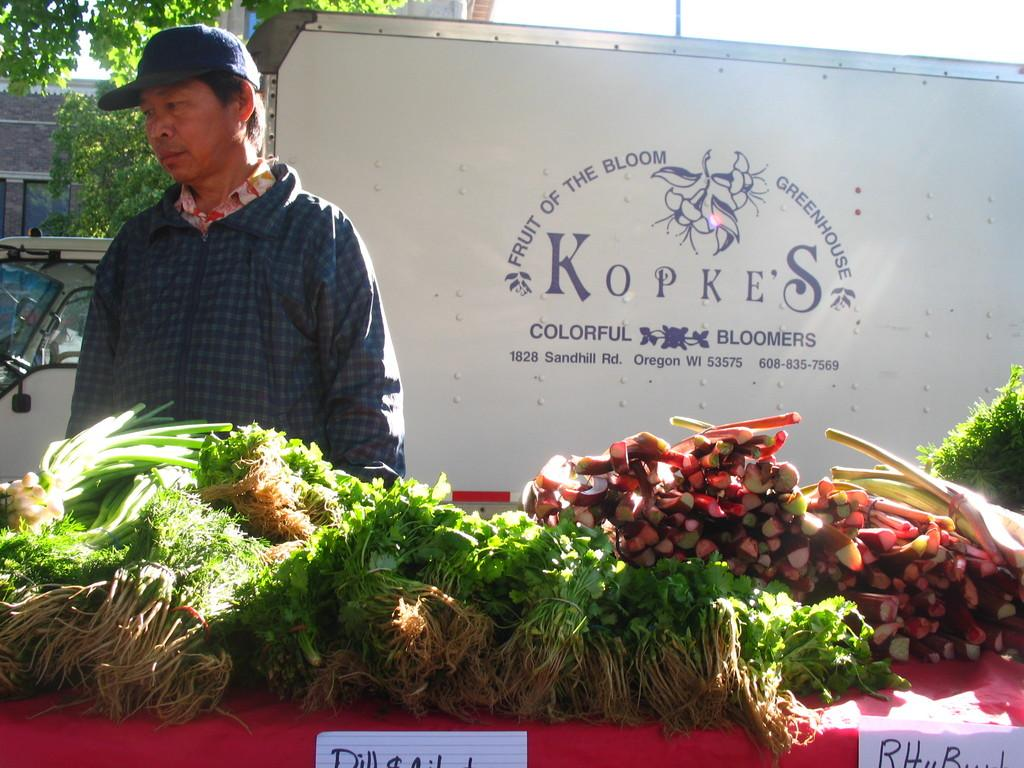Hat: (98, 20, 261, 113)
